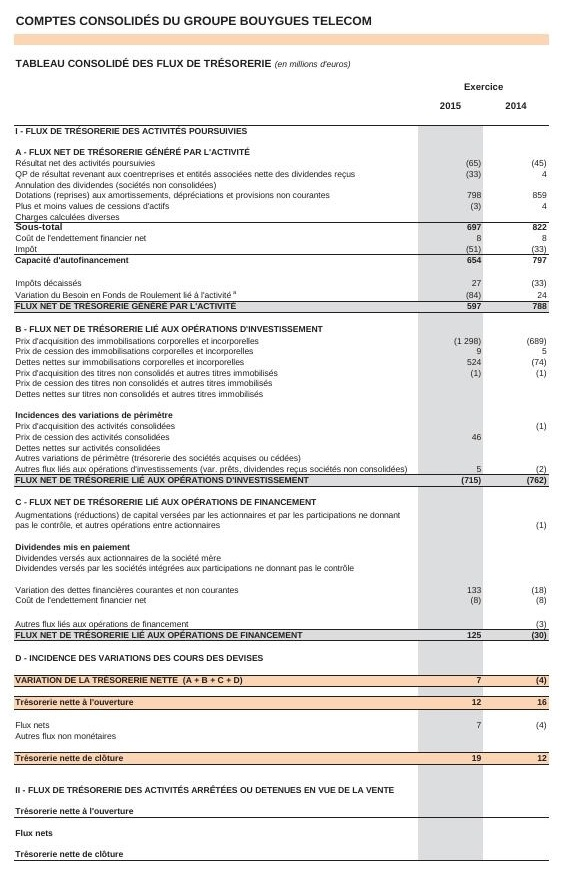table: (0, 0, 563, 872)
